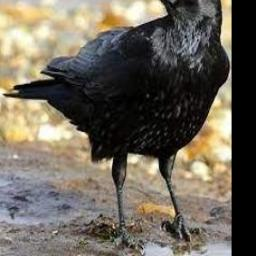Crow: (2, 0, 230, 249)
